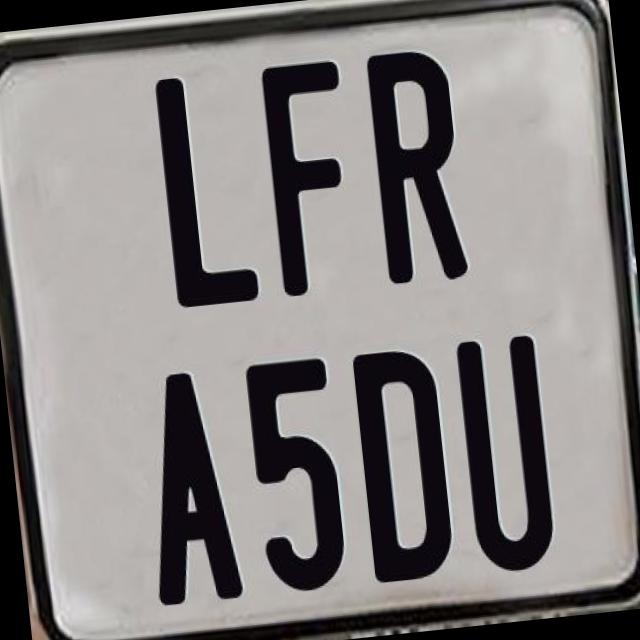5: (244, 354, 354, 599)
A: (136, 368, 252, 614)
D: (352, 343, 464, 589)
F: (260, 57, 366, 301)
L: (152, 71, 262, 308)
R: (364, 44, 476, 290)
U: (455, 334, 565, 580)
